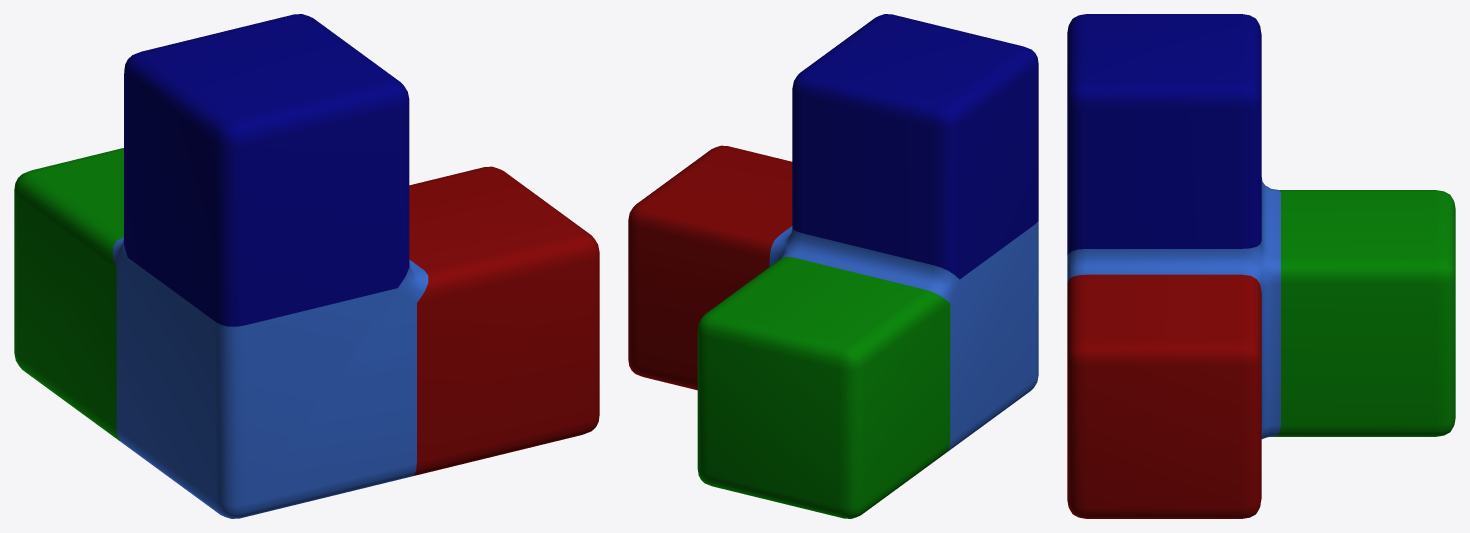
File: Multi-mat.fbx
3 views of the same model, side by side, from view 1: azimuth 30°, elevation 25°; view 2: azimuth 150°, elevation 25°; view 3: azimuth 270°, elevation 25° (orthographic). The views are drawn at different scales.
Visible parts, largest first — view 1: POP_Standart; view 2: POP_Standart; view 3: POP_Standart.
Part boxes in pixels (<box>): POP_Standart: <box>14,14,599,518</box>; POP_Standart: <box>628,14,1038,518</box>; POP_Standart: <box>1067,14,1455,518</box>.
Size of the model in its own units: 2 by 2 by 2.
